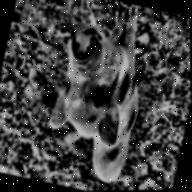boar: (37, 0, 172, 190), (35, 0, 169, 191)
